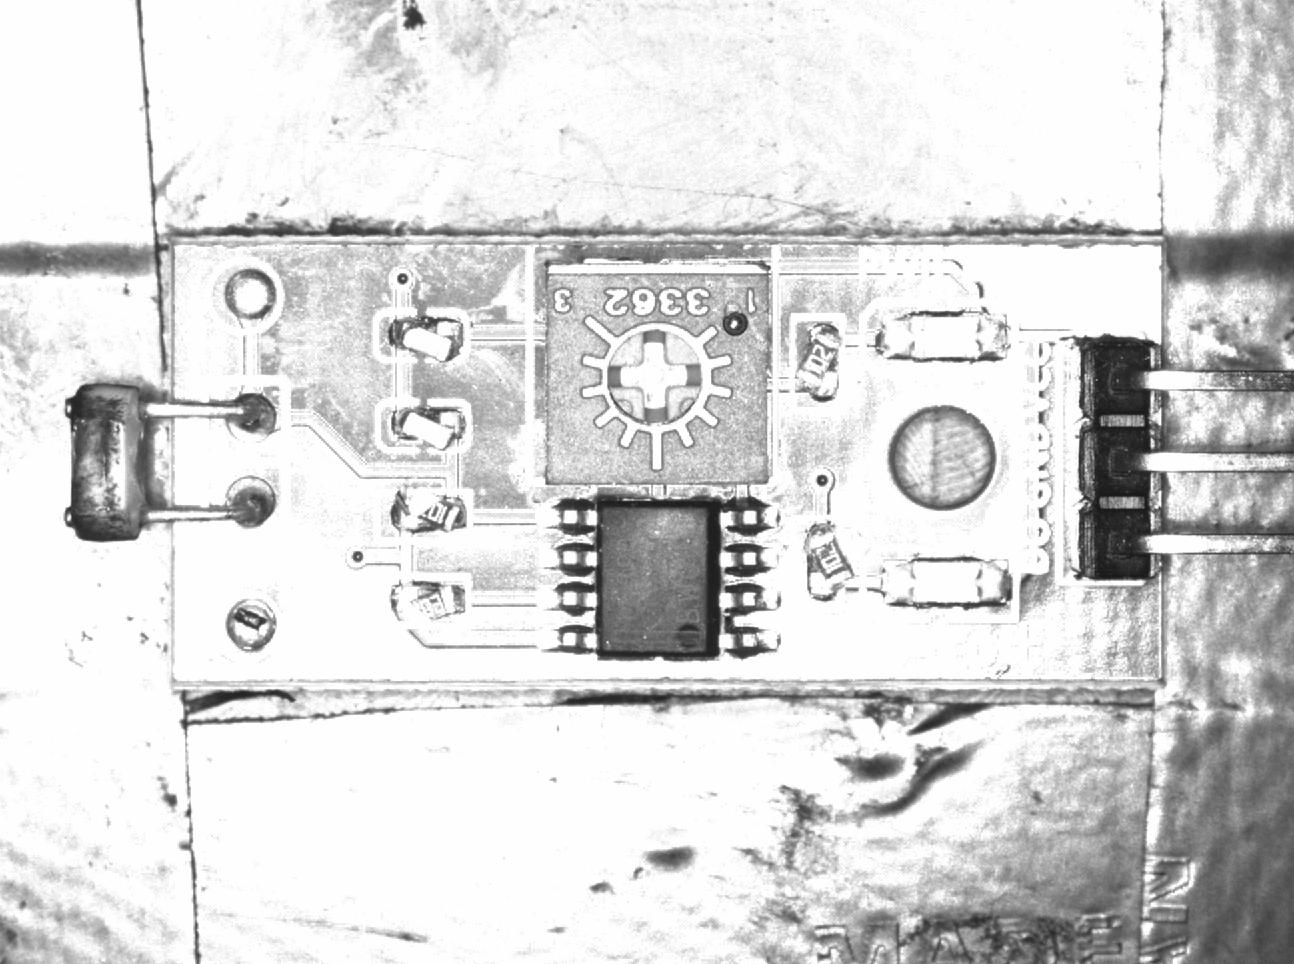lifted: (787, 315, 847, 410), (374, 400, 471, 458), (373, 310, 472, 365), (797, 518, 856, 608), (376, 486, 474, 539), (374, 574, 472, 625)
